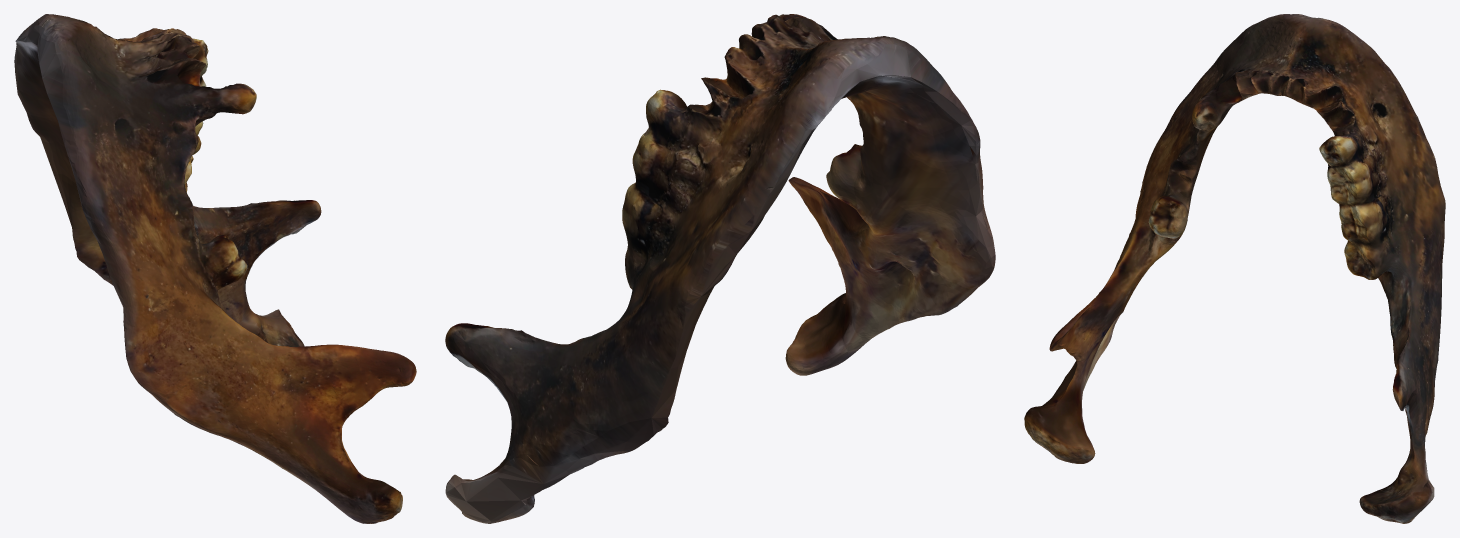
The model's file is mandible2.glb.
The picture shows the model from 3 angles, left to right: view 1: azimuth 30°, elevation 25°; view 2: azimuth 150°, elevation 25°; view 3: azimuth 270°, elevation 25°; orthographic projection. The views are drawn at different scales.
Size of the model in its own units: 0.6964 by 0.8513 by 0.833.
Materials: 1 (1 with a texture image).
